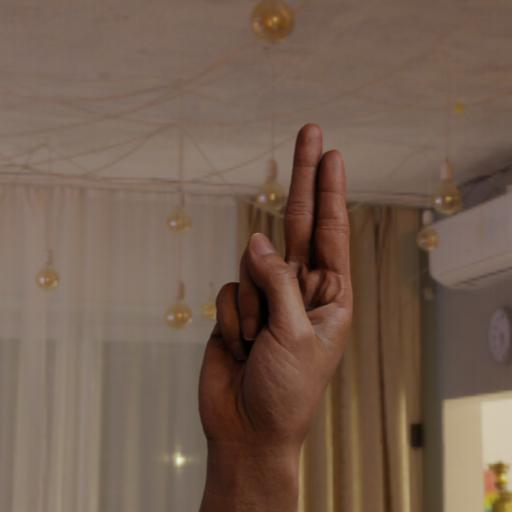U: (188, 117, 361, 472)
